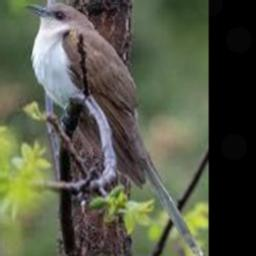Cuckoo: (24, 1, 203, 256)
